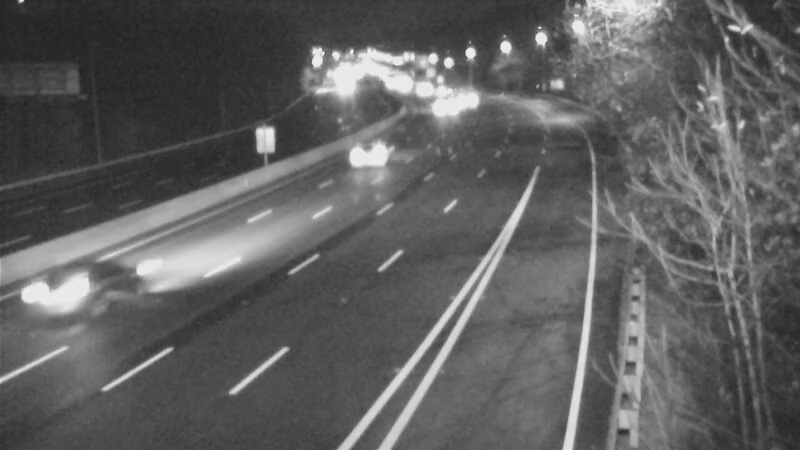vehicle: (14, 252, 94, 332), (441, 75, 491, 125), (422, 78, 472, 128), (347, 120, 397, 170)
